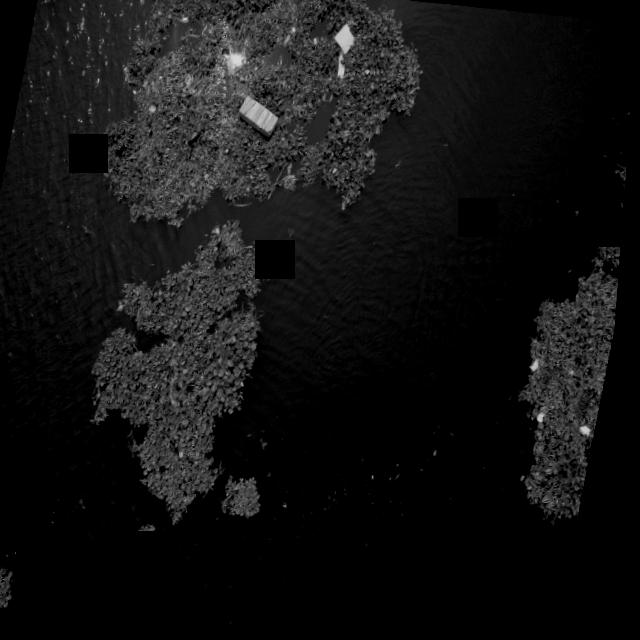plastic: (231, 90, 286, 147), (325, 20, 362, 58), (327, 59, 352, 84), (146, 101, 161, 115), (532, 361, 546, 376), (220, 391, 234, 404), (585, 428, 599, 441), (271, 469, 283, 483), (39, 0, 66, 6), (543, 407, 559, 417), (177, 15, 191, 26), (282, 35, 294, 46), (554, 519, 566, 530), (183, 450, 193, 462), (543, 414, 553, 426), (375, 126, 385, 137), (289, 27, 299, 36), (141, 308, 147, 318), (184, 146, 192, 153), (0, 454, 1, 486)
